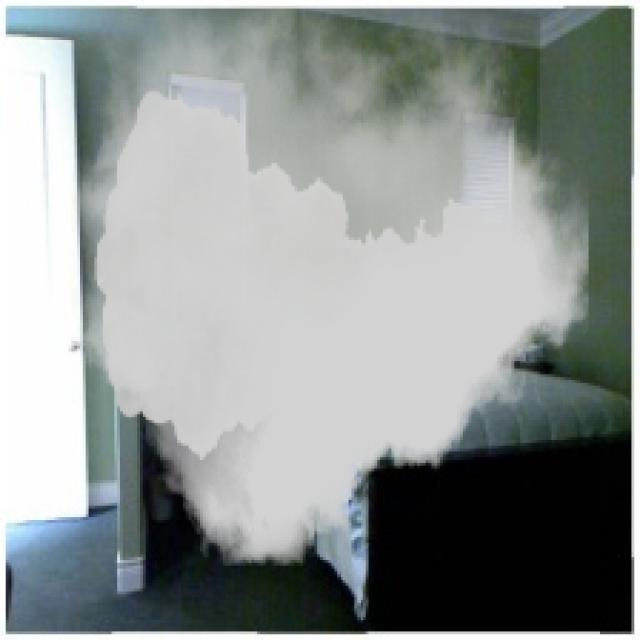Smoke: (71, 6, 588, 566)
